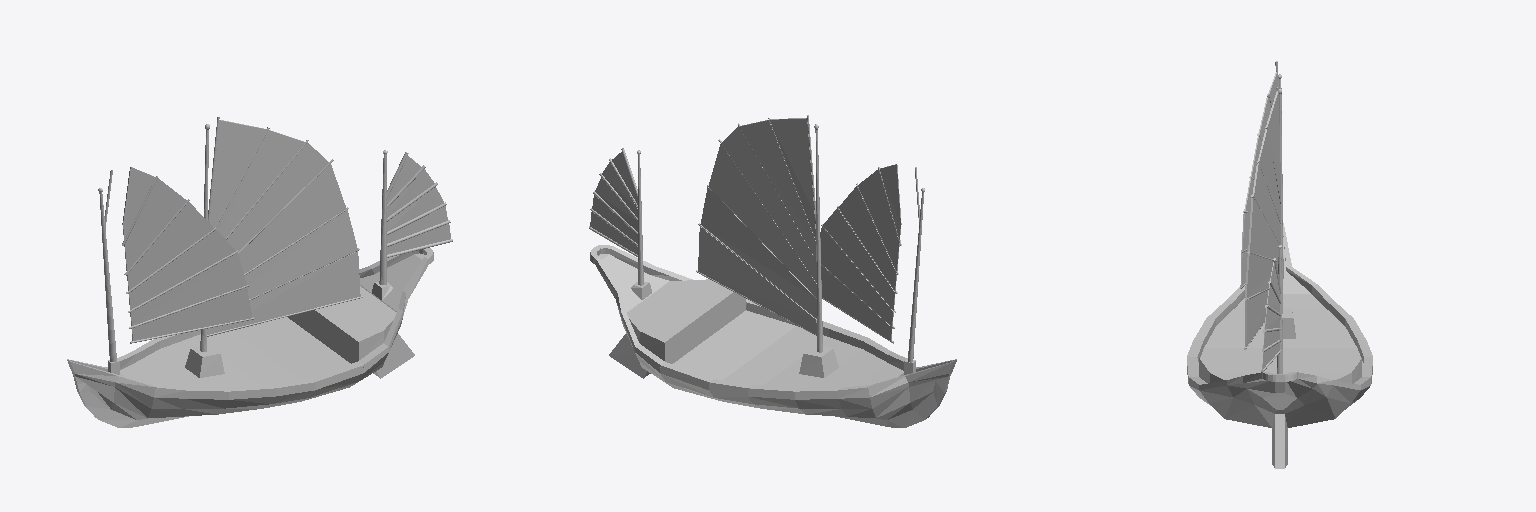
The model's file is boat.obj.
3 renders of one model, left to right at view 1: azimuth 30°, elevation 25°; view 2: azimuth 150°, elevation 25°; view 3: azimuth 270°, elevation 25°, orthographic.
Parts seen in each view (by area): view 1: pCube1, pCube1 pCylinder2 pCube2, pCube1 pCylinder2 pCube4, pCube1 pCylinder2 pCube3, pCube1 pCylinder2 pCube6, pCube1 pCylinder2 pCube5, pCube1 pCylinder2 pCube7, pCube1 pCylinder1 pCube9, pCube1 pCylinder1 pCube8, pCube1 pCylinder1 pCube10, pCube1 pCylinder1 pCube11, pCube1 pCylinder1 pCube12 (+8 smaller); view 2: pCube1, pCube1 pCylinder2 pCube4, pCube1 pCylinder2 pCube2, pCube1 pCylinder2 pCube3, pCube1 pCylinder2 pCube5, pCube1 pCylinder2 pCube6, pCube1 pCylinder2 pCube7, pCube1 pCylinder1 pCube9, pCube1 pCylinder1 pCube10, pCube1 pCylinder1 pCube11, pCube1 pCylinder1 pCube12, pCube1 pCylinder1 pCube8 (+8 smaller); view 3: pCube1, pCube1 pCylinder2 pCube4, pCube1 pCylinder2 pCube3, pCube1 pCylinder2 pCube5, pCube1 pCylinder2 pCube6, pCube1 pCylinder2 pCube2, pCube1 pCylinder2 pCube7.
Part boxes in pixels (left/top/right/bottom): pCube1: left=67, top=248, right=433, bottom=427; pCube1 pCylinder2 pCube2: left=207, top=251, right=360, bottom=334; pCube1 pCylinder2 pCube4: left=239, top=164, right=346, bottom=273; pCube1 pCylinder2 pCube3: left=245, top=210, right=357, bottom=298; pCube1 pCylinder2 pCube6: left=216, top=130, right=305, bottom=238; pCube1 pCylinder2 pCube5: left=226, top=142, right=328, bottom=250; pCube1 pCylinder2 pCube7: left=210, top=120, right=267, bottom=227; pCube1 pCylinder1 pCube9: left=130, top=253, right=246, bottom=325; pCube1 pCylinder1 pCube8: left=132, top=287, right=251, bottom=340; pCube1 pCylinder1 pCube10: left=129, top=230, right=235, bottom=309; pCube1 pCylinder1 pCube11: left=127, top=202, right=213, bottom=290; pCube1 pCylinder1 pCube12: left=124, top=178, right=186, bottom=270; pCube1: left=590, top=245, right=956, bottom=427; pCube1 pCylinder2 pCube4: left=708, top=144, right=816, bottom=297; pCube1 pCylinder2 pCube2: left=698, top=227, right=816, bottom=334; pCube1 pCylinder2 pCube3: left=700, top=187, right=816, bottom=317; pCube1 pCylinder2 pCube5: left=721, top=126, right=816, bottom=282; pCube1 pCylinder2 pCube6: left=740, top=120, right=815, bottom=258; pCube1 pCylinder2 pCube7: left=770, top=118, right=815, bottom=238; pCube1 pCylinder1 pCube9: left=820, top=227, right=893, bottom=325; pCube1 pCylinder1 pCube10: left=823, top=208, right=895, bottom=309; pCube1 pCylinder1 pCube11: left=838, top=186, right=896, bottom=290; pCube1 pCylinder1 pCube12: left=858, top=169, right=899, bottom=270; pCube1 pCylinder1 pCube8: left=821, top=265, right=892, bottom=340; pCube1: left=1187, top=223, right=1372, bottom=468; pCube1 pCylinder2 pCube4: left=1248, top=198, right=1278, bottom=260; pCube1 pCylinder2 pCube3: left=1245, top=253, right=1277, bottom=298; pCube1 pCylinder2 pCube5: left=1252, top=163, right=1280, bottom=244; pCube1 pCylinder2 pCube6: left=1258, top=129, right=1280, bottom=223; pCube1 pCylinder2 pCube2: left=1245, top=290, right=1267, bottom=346; pCube1 pCylinder2 pCube7: left=1266, top=91, right=1280, bottom=203.
Bounding box in the file's own units: 2.66 × 2.02 × 1.15.